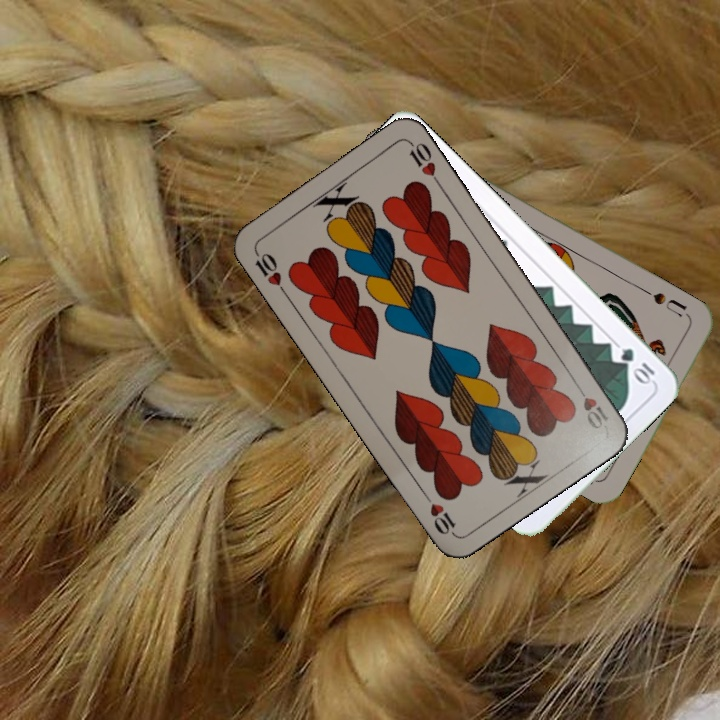G10: (616, 344, 658, 388)
H10: (570, 378, 611, 432), (250, 246, 290, 298)
SU: (649, 288, 690, 320)
